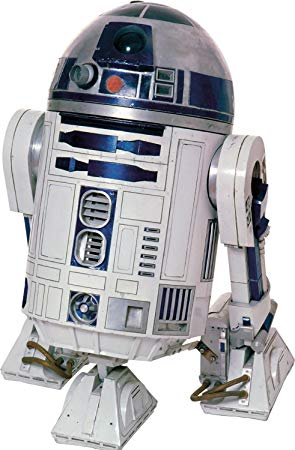r2d2: (1, 1, 294, 449)
